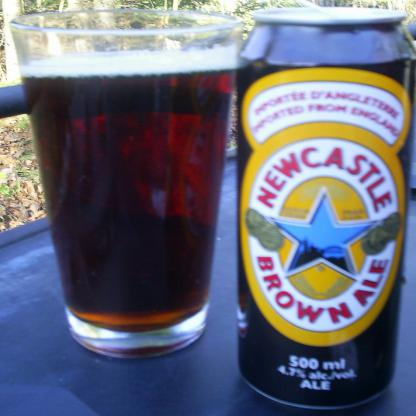drinking: (9, 10, 242, 358)
